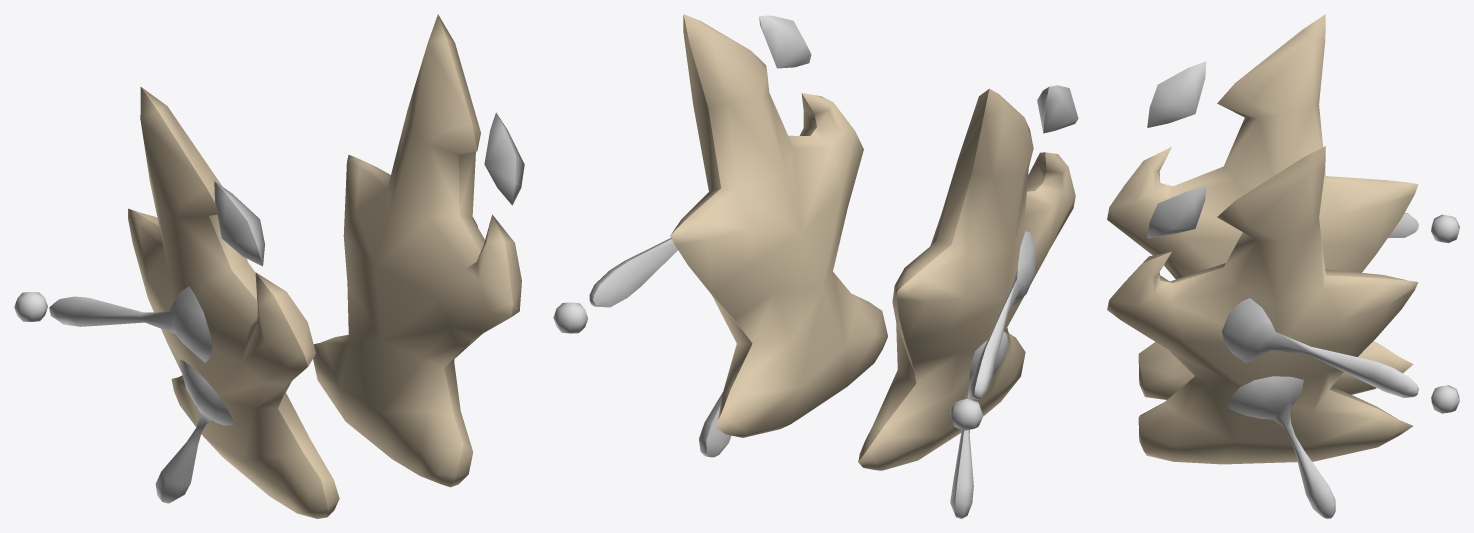
The model's file is S12_Reptile06_L2_Back.glb.
3 views of the same model, side by side, from view 1: azimuth 30°, elevation 25°; view 2: azimuth 150°, elevation 25°; view 3: azimuth 270°, elevation 25° (orthographic). The views are drawn at different scales.
Visible parts, largest first — view 1: S12_Reptile06_L2_Back__Back_M__surface0__lod0; view 2: S12_Reptile06_L2_Back__Back_M__surface0__lod0; view 3: S12_Reptile06_L2_Back__Back_M__surface0__lod0.
Part boxes in pixels (x1=…): S12_Reptile06_L2_Back__Back_M__surface0__lod0: x1=14, y1=14, x2=524, y2=518; S12_Reptile06_L2_Back__Back_M__surface0__lod0: x1=553, y1=14, x2=1078, y2=518; S12_Reptile06_L2_Back__Back_M__surface0__lod0: x1=1107, y1=14, x2=1459, y2=518.
Bounding box in the file's own units: 0.8149 × 0.7998 × 0.665.
